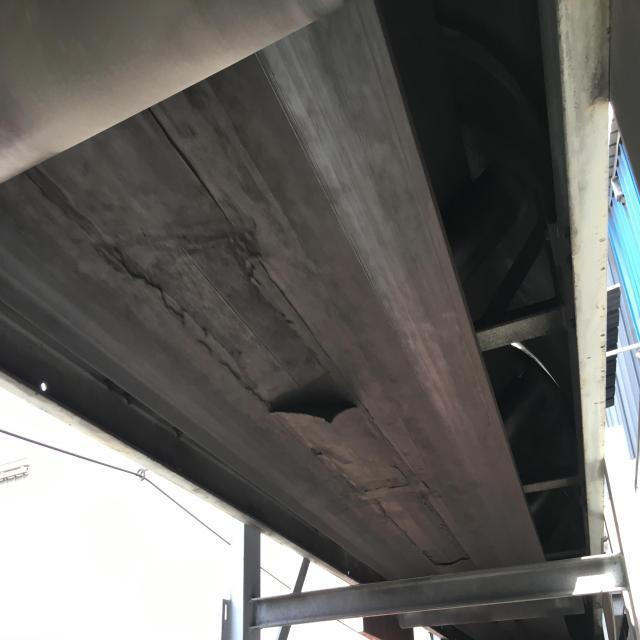Wear: (22, 105, 476, 572)
